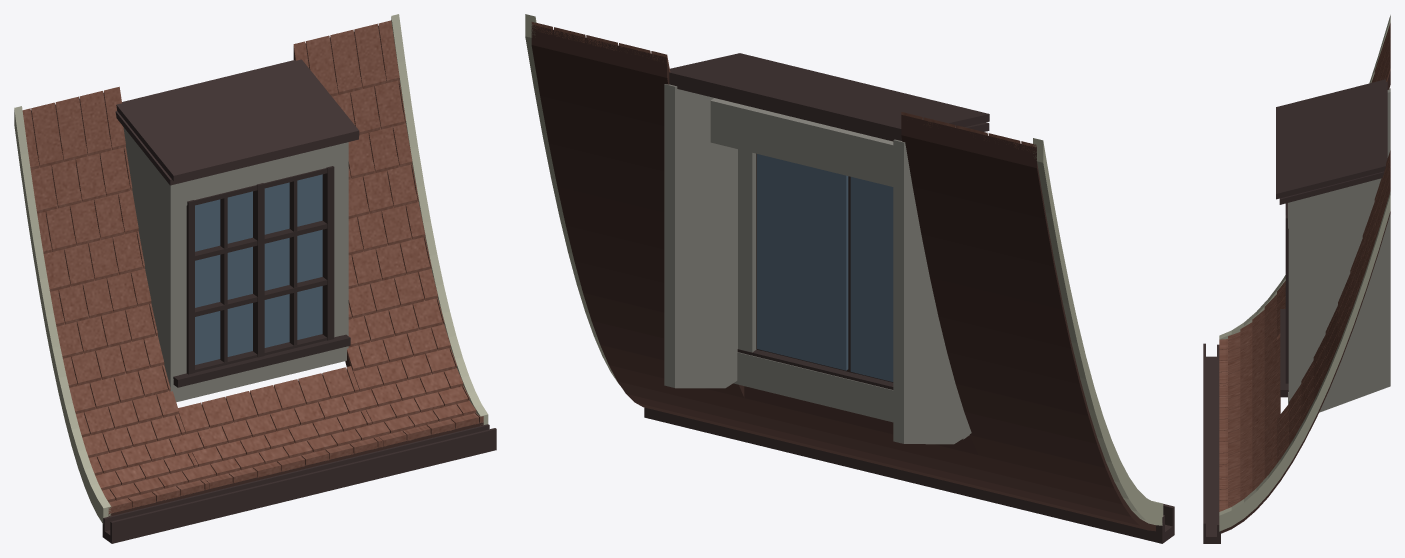
The model's file is huangpu-shaoxing-three-tiled-dormer-web.glb.
3 views of the same model, side by side, from view 1: azimuth 30°, elevation 25°; view 2: azimuth 150°, elevation 25°; view 3: azimuth 270°, elevation 25° (orthographic). The views are drawn at different scales.
Parts seen in each view (by area): view 1: 绍兴路3号住宅曲面红瓦屋顶与双扇格窗; view 2: 绍兴路3号住宅曲面红瓦屋顶与双扇格窗; view 3: 绍兴路3号住宅曲面红瓦屋顶与双扇格窗.
Part boxes in pixels (x1=…): 绍兴路3号住宅曲面红瓦屋顶与双扇格窗: x1=14, y1=14, x2=496, y2=543; 绍兴路3号住宅曲面红瓦屋顶与双扇格窗: x1=525, y1=14, x2=1174, y2=543; 绍兴路3号住宅曲面红瓦屋顶与双扇格窗: x1=1203, y1=15, x2=1390, y2=543.
Size of the model in its own units: 2.79 by 2.52 by 1.23.
Materials: 7 (1 with a texture image).
